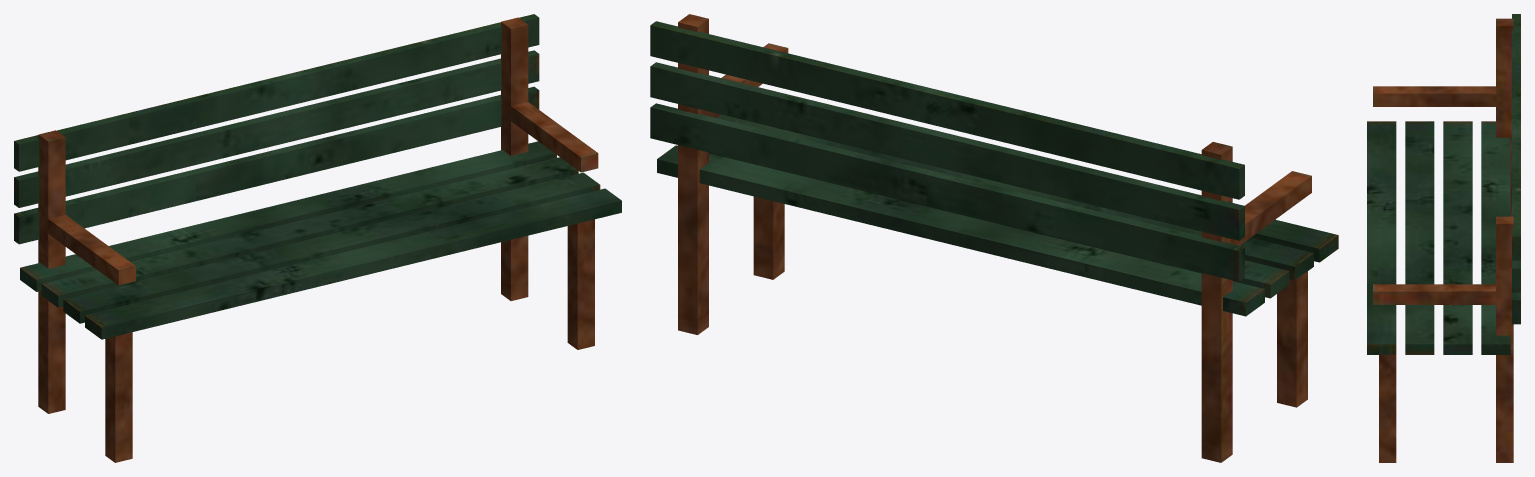
File: bench.glb
3 views of the same model, side by side, from view 1: azimuth 30°, elevation 25°; view 2: azimuth 150°, elevation 25°; view 3: azimuth 270°, elevation 25° (orthographic). The views are drawn at different scales.
Parts seen in each view (by area): view 1: Main; view 2: Main; view 3: Main.
Part boxes in pixels (x1,y1,x2,y2): Main: (14, 14, 621, 462); Main: (650, 14, 1338, 462); Main: (1367, 14, 1520, 462).
Bounding box in the file's own units: 1.8 × 0.9 × 0.525.
Materials: 1 (1 with a texture image).
